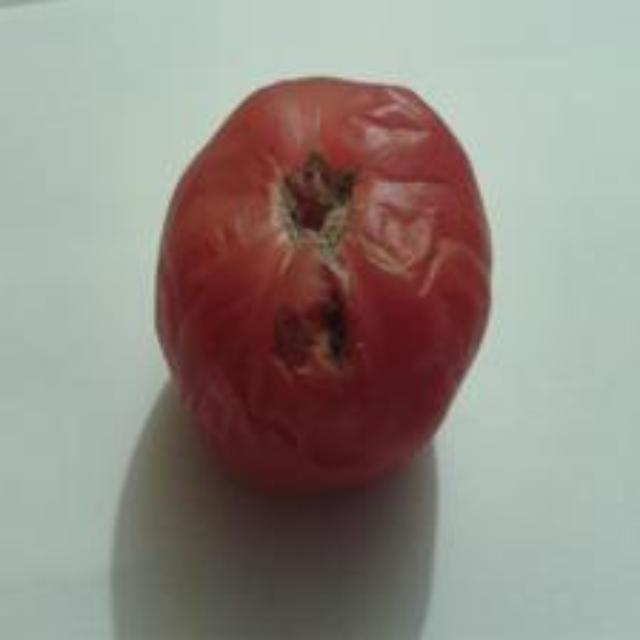defect: (151, 66, 496, 502)
